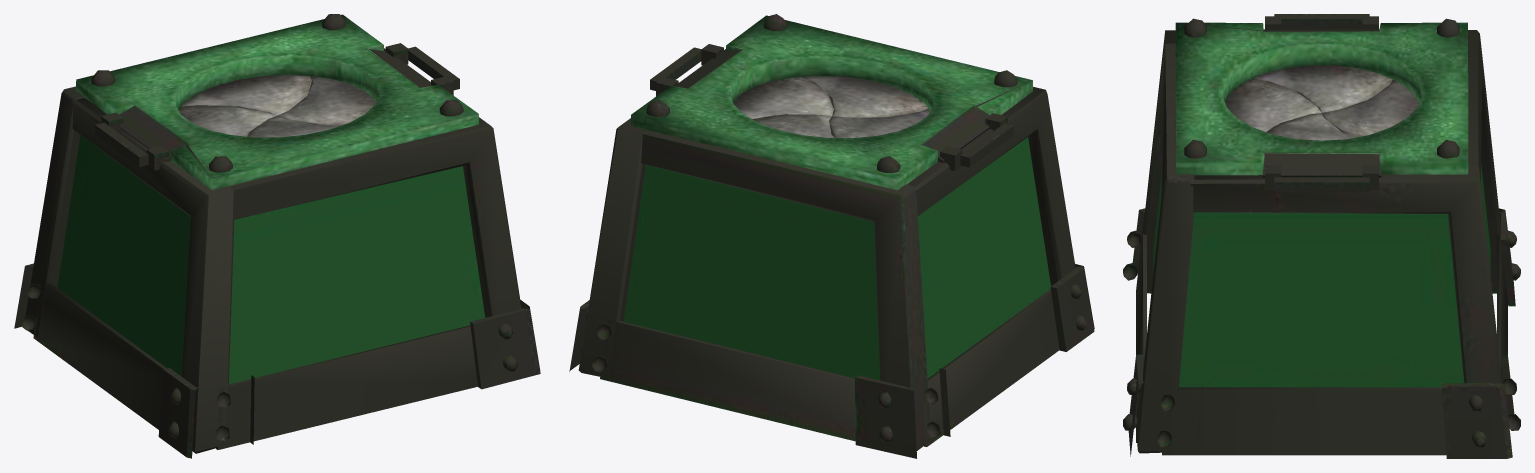
Rendered from buffer-chest.glb.
The picture shows the model from 3 angles, left to right: view 1: azimuth 30°, elevation 25°; view 2: azimuth 150°, elevation 25°; view 3: azimuth 270°, elevation 25°; orthographic projection. The views are drawn at different scales.
Visible parts, largest first — view 1: body; view 2: body; view 3: body.
Part boxes in pixels (left/top/right/bottom): body: left=14, top=14, right=540, bottom=458; body: left=569, top=14, right=1094, bottom=458; body: left=1123, top=14, right=1520, bottom=458.
Size of the model in its own units: 1.02 by 0.7135 by 0.9.
1 material, 1 textured.
